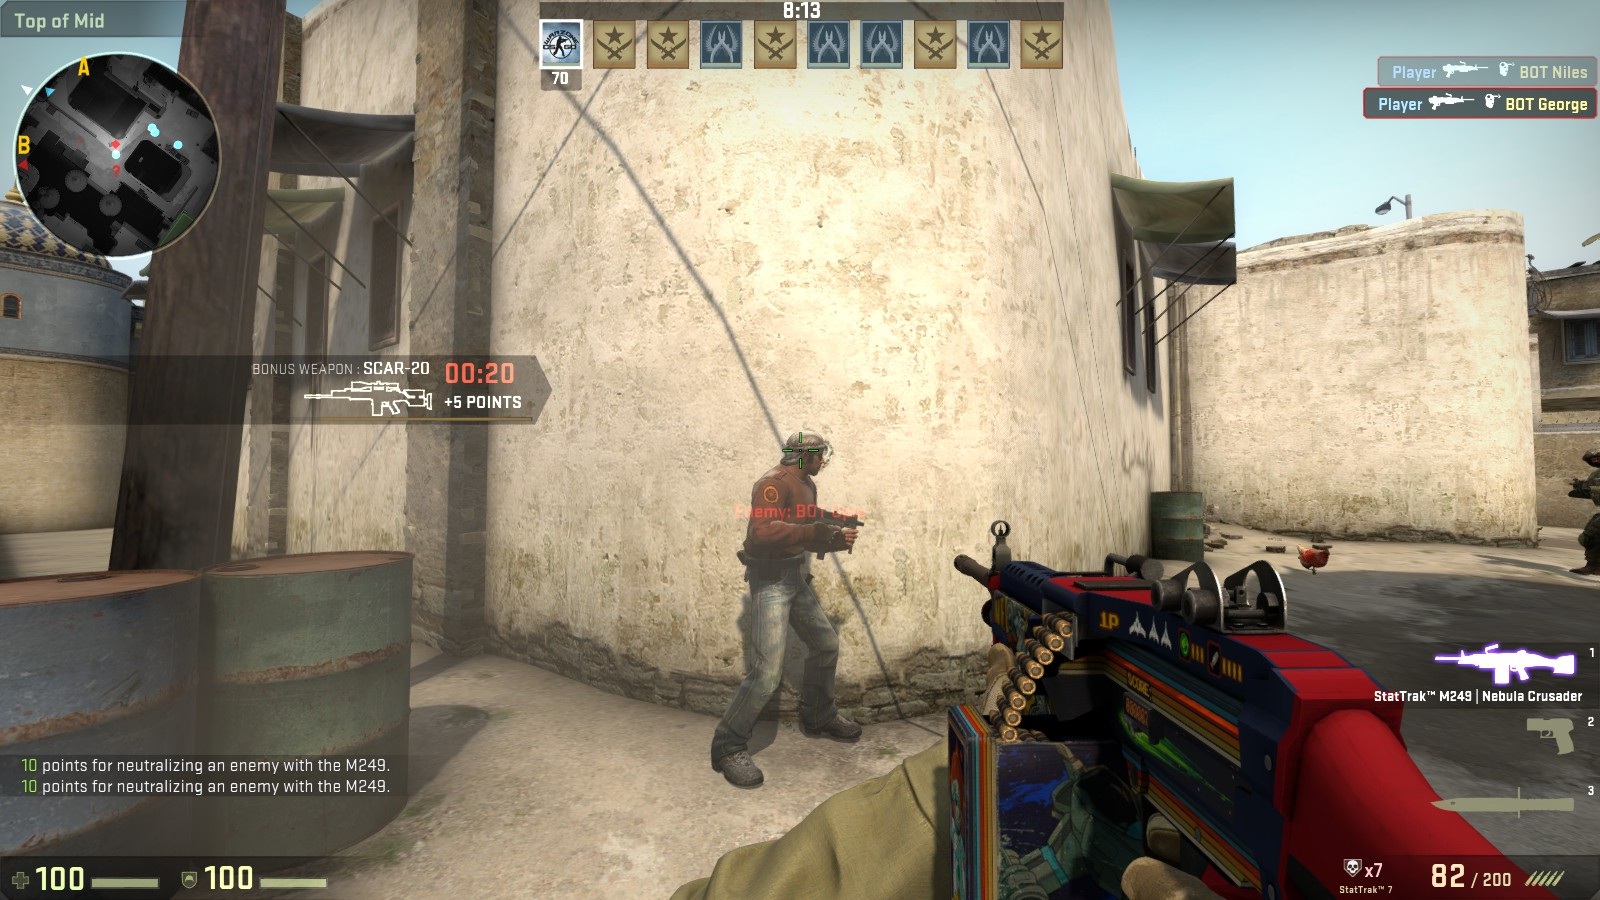t: (724, 421, 838, 791)
th: (782, 426, 831, 482)
